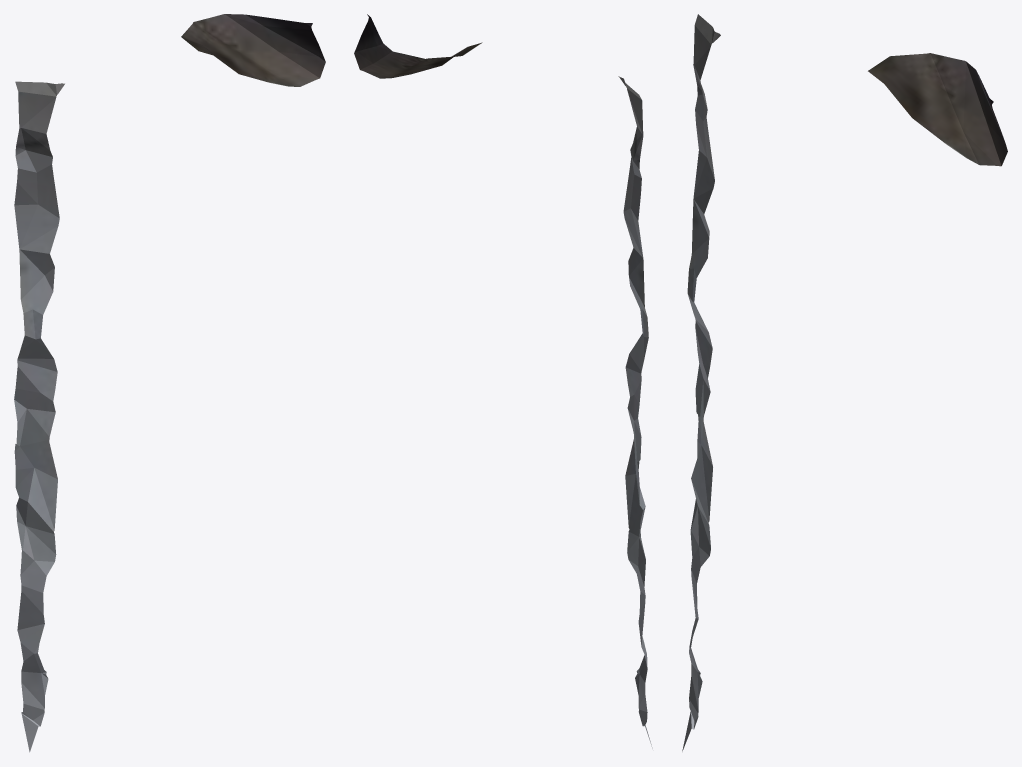
3 renders of one model, left to right at view 1: azimuth 30°, elevation 25°; view 2: azimuth 150°, elevation 25°; view 3: azimuth 330°, elevation 25°, orthographic. The views are drawn at different scales.
Size of the model in its own units: 0.2789 by 0.5946 by 0.0516.
1 material, 1 textured.
